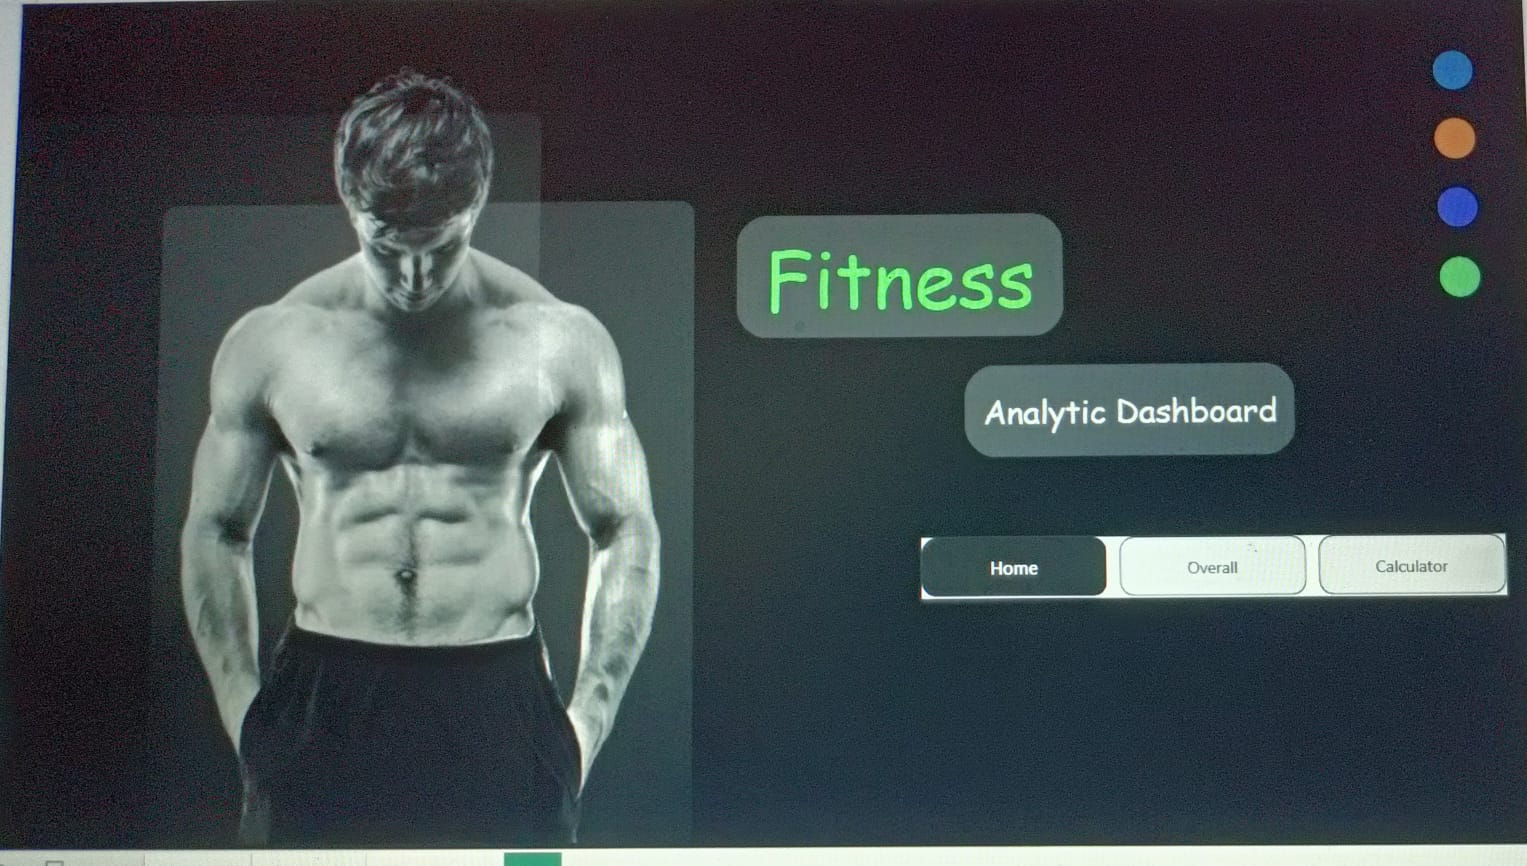

The dashboard page shown, as its layout file describes it:
{"tool":"powerbi","page":{"name":"Home","canvas":[1280,720],"ordinal":0},"visuals":[{"type":"shape","box":[615.3,193,273.9,103.8],"z":0},{"type":"shape","box":[805.9,320.9,273.9,77.2],"z":1000},{"type":"pageNavigator","box":[768.5,464.5,481.4,51.9],"z":2000},{"type":"advancedSlicerVisual","fields":{"Values":["ColorCodes.Icon"]},"box":[1188.3,43.4,61.5,241.3],"z":3000}]}

Visuals, with their boxes in screenshot pixels (x1, y1, x2, y2), scaled from the page's 1280x720 canvas onto the 1527x866 screenshot:
shape: 734 232 1061 357
shape: 961 386 1288 479
pageNavigator: 917 559 1491 621
advancedSlicerVisual - ColorCodes.Icon: 1418 52 1491 342
